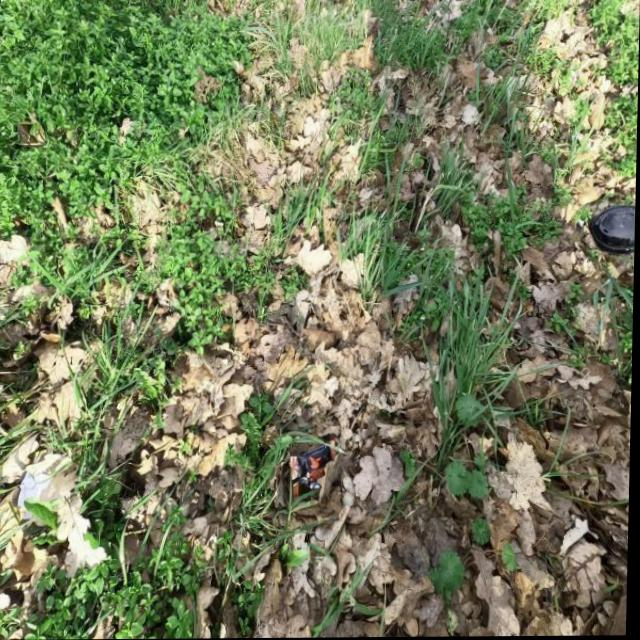Plastic: (283, 440, 338, 498)
